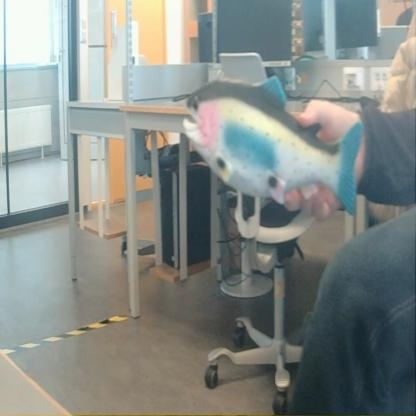rubberfish: (178, 73, 364, 222)
